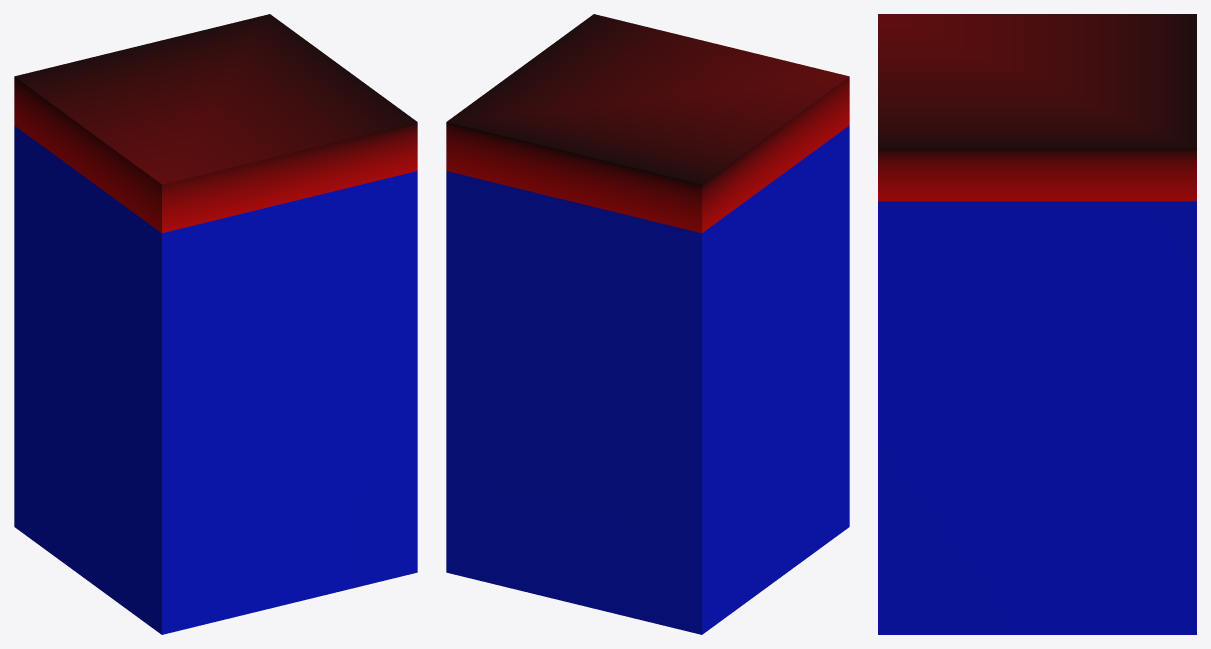
File: wall.glb
3 views of the same model, side by side, from view 1: azimuth 30°, elevation 25°; view 2: azimuth 150°, elevation 25°; view 3: azimuth 270°, elevation 25° (orthographic). The views are drawn at different scales.
Visible parts, largest first — view 1: Cube, Cube.001; view 2: Cube, Cube.001; view 3: Cube, Cube.001.
Boxes of the visible parts, x1=… form: Cube: x1=14, y1=125, x2=417, y2=634; Cube.001: x1=14, y1=14, x2=417, y2=233; Cube: x1=446, y1=125, x2=849, y2=634; Cube.001: x1=446, y1=14, x2=849, y2=233; Cube: x1=878, y1=201, x2=1196, y2=634; Cube.001: x1=878, y1=14, x2=1196, y2=201.
Size of the model in its own units: 1 by 1.68 by 1.
